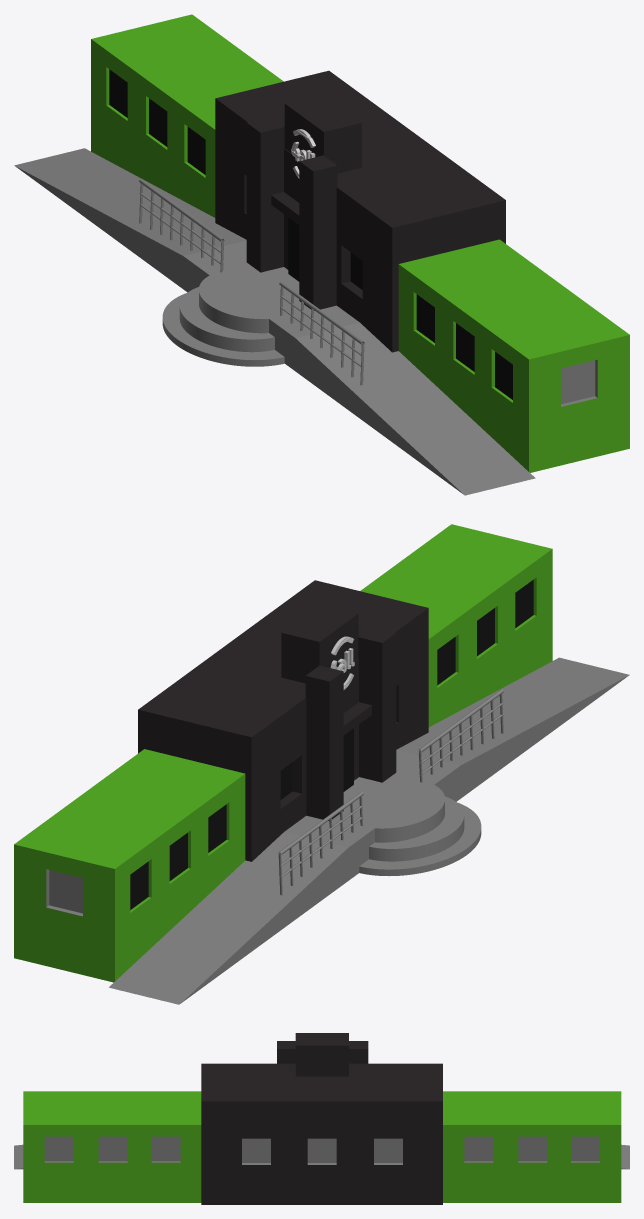
The picture shows the model from 3 angles, top to bottom: view 1: azimuth 30°, elevation 25°; view 2: azimuth 150°, elevation 25°; view 3: azimuth 270°, elevation 25°; orthographic projection. The views are drawn at different scales.
Parts seen in each view (by area): view 1: NurbsPath002; view 2: NurbsPath002; view 3: NurbsPath002.
Part boxes in pixels (x1=…): NurbsPath002: x1=14, y1=14, x2=629, y2=495; NurbsPath002: x1=14, y1=524, x2=629, y2=1004; NurbsPath002: x1=14, y1=1033, x2=629, y2=1204.
Size of the model in its own units: 8.39 by 6.55 by 27.25.
